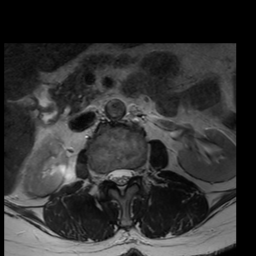CCS_normal: (116, 165, 125, 200)
LFS_normal: (133, 161, 142, 184)
LLS_normal: (125, 162, 133, 188)
RFS_stenosis: (99, 164, 108, 189)
RLS_normal: (108, 164, 116, 189)
